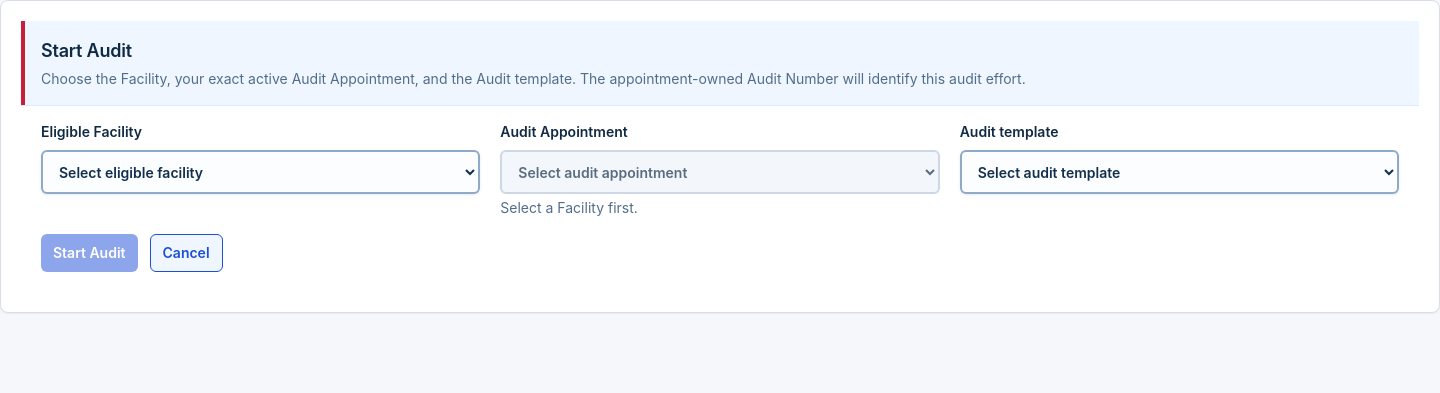
Test case: governed Audit start intent › maps definitive 400 without exposing backend detail
The width and height of the screenshot is (1440, 393).
Select "North Pool · FACILITY-2026-000001 · North Aquatics" in the dropdown labelled "Eligible Facility": (261, 172) [41,150,480,194]
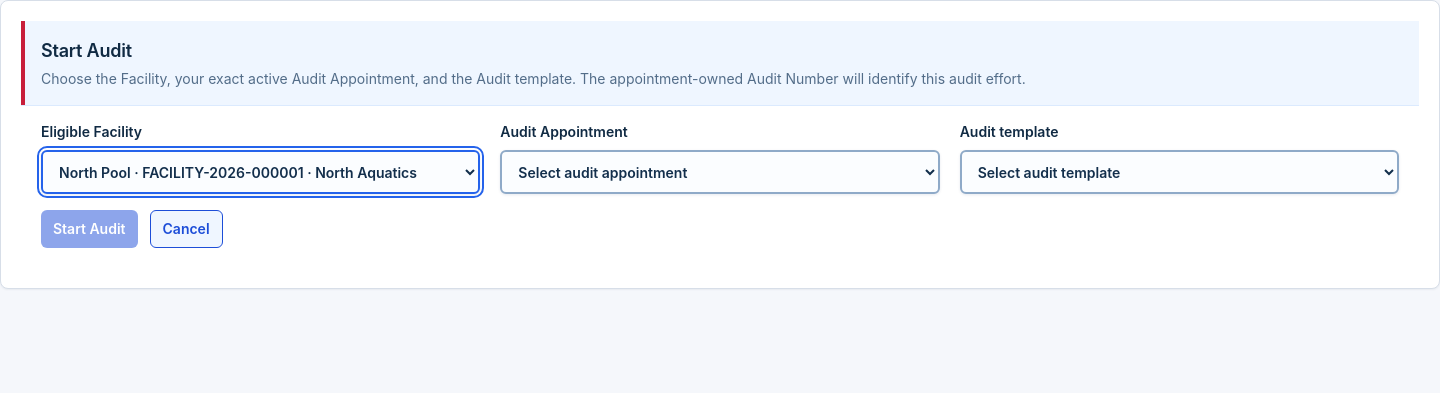
Select "AUDIT-2026-000001 · AUDITOR-APPOINTMENT-2026-000001 · Lead Auditor" in the dropdown labelled "Audit Appointment": (720, 172) [500,150,940,194]
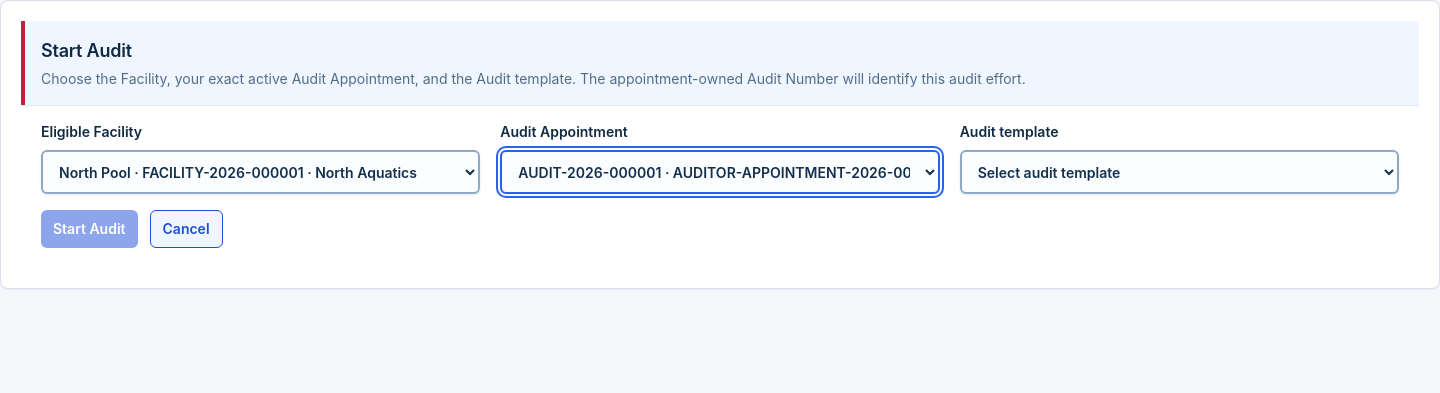
Select "Full Safety Audit · Full Safety Audit · v2" in the dropdown labelled "Audit template": (1179, 172) [960,150,1399,194]
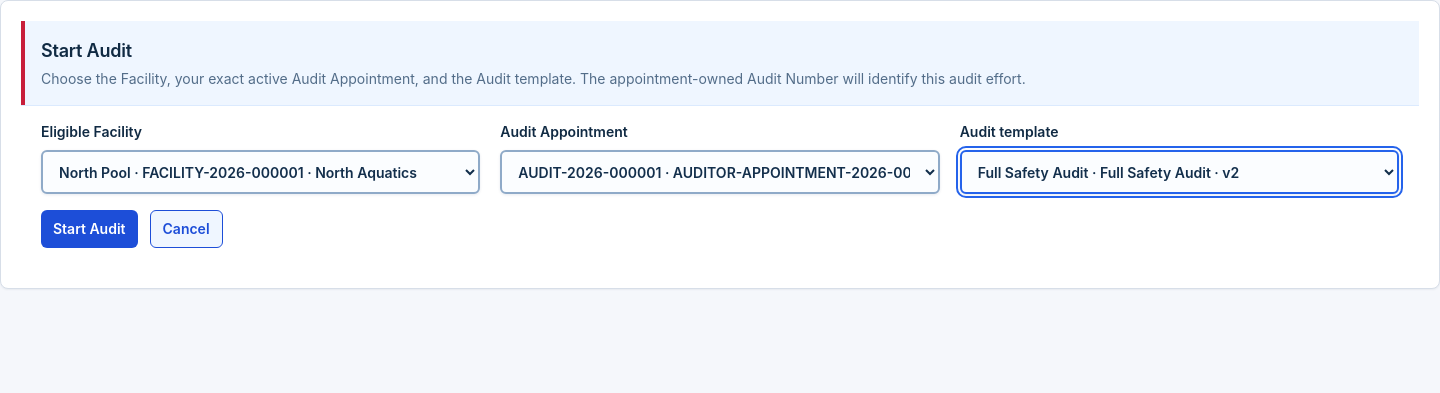
Click the button "Start Audit": (89, 229) [41,210,138,248]
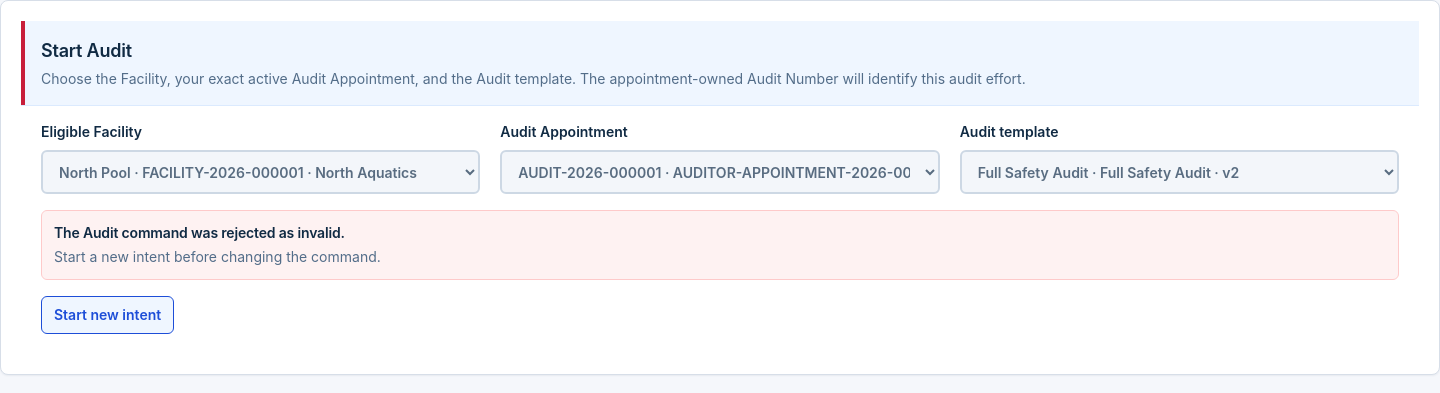
Expected: the heading "The Audit command was rejected as invalid." is shown, [54,224,345,241]
Expected: the button "Start new intent" is shown, [41,296,174,334]
